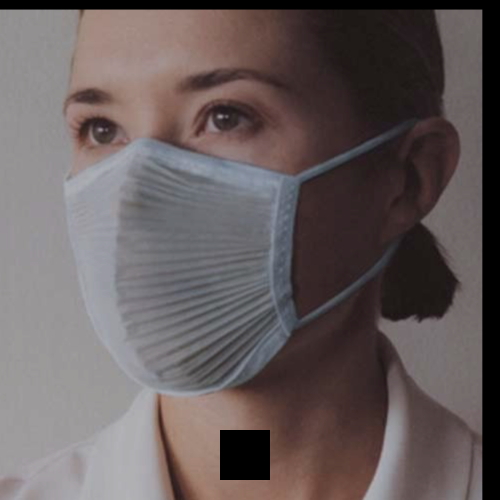with_mask: (60, 58, 377, 395)
